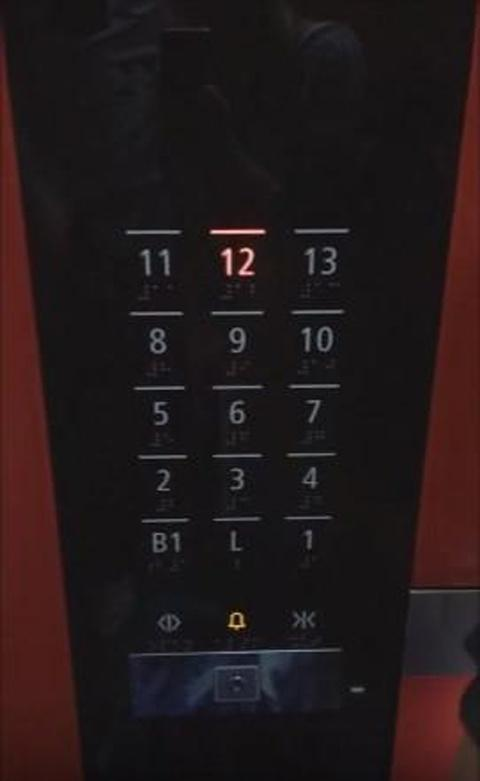1: (283, 516, 340, 572)
10: (287, 304, 346, 373)
11: (120, 225, 183, 295)
12: (206, 225, 269, 296)
13: (289, 224, 349, 295)
2: (130, 451, 192, 521)
3: (210, 450, 266, 516)
4: (285, 450, 341, 516)
5: (129, 381, 187, 447)
6: (206, 381, 269, 448)
7: (286, 379, 342, 445)
8: (125, 306, 185, 375)
9: (204, 305, 266, 374)
B1: (132, 514, 193, 580)
alarm: (208, 595, 262, 647)
close: (278, 595, 329, 649)
keyhole: (207, 660, 261, 703)
open: (139, 596, 194, 645)
unknown: (206, 515, 265, 578)
